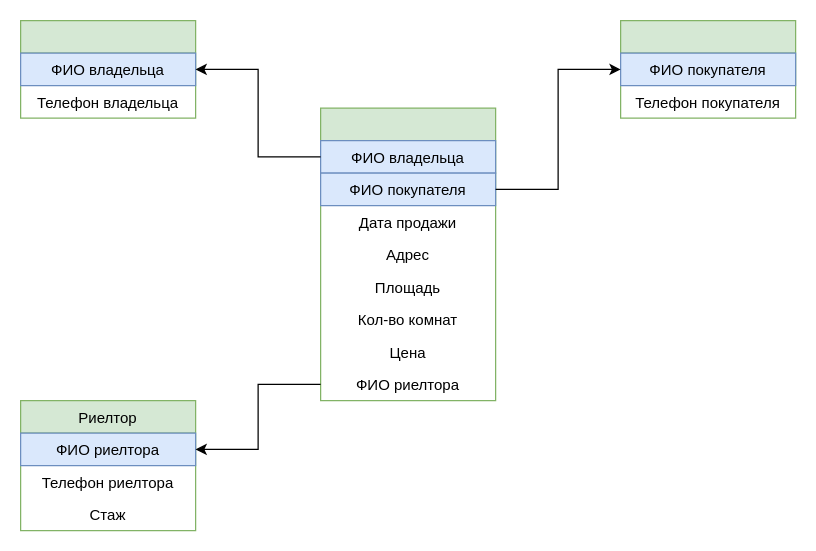
Some shapes in this 816 by 551 pixel diagram are drawn without their labels. The shapes that lost their labels are listed below. From the top down, each one's box as (x1, y1, x2, y2) in pixels, then its label:
(19, 19, 196, 118): Владелец
(619, 19, 796, 118): Покупатель
(319, 107, 496, 401): Продажа
